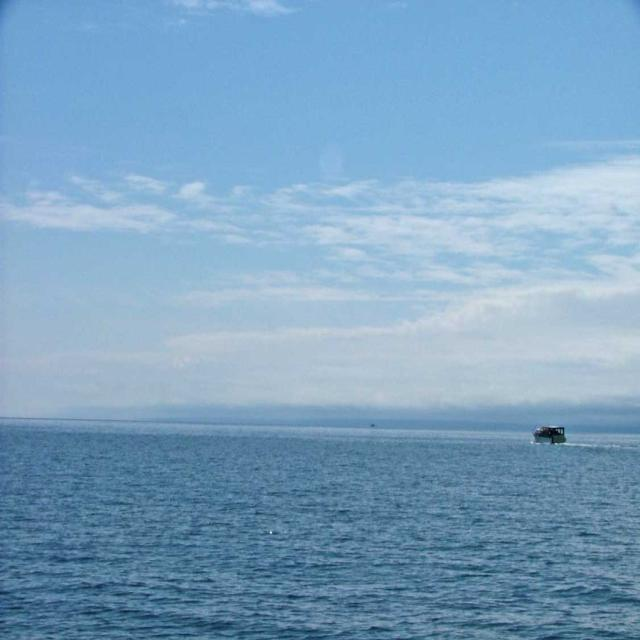houseboat: (526, 415, 570, 447)
